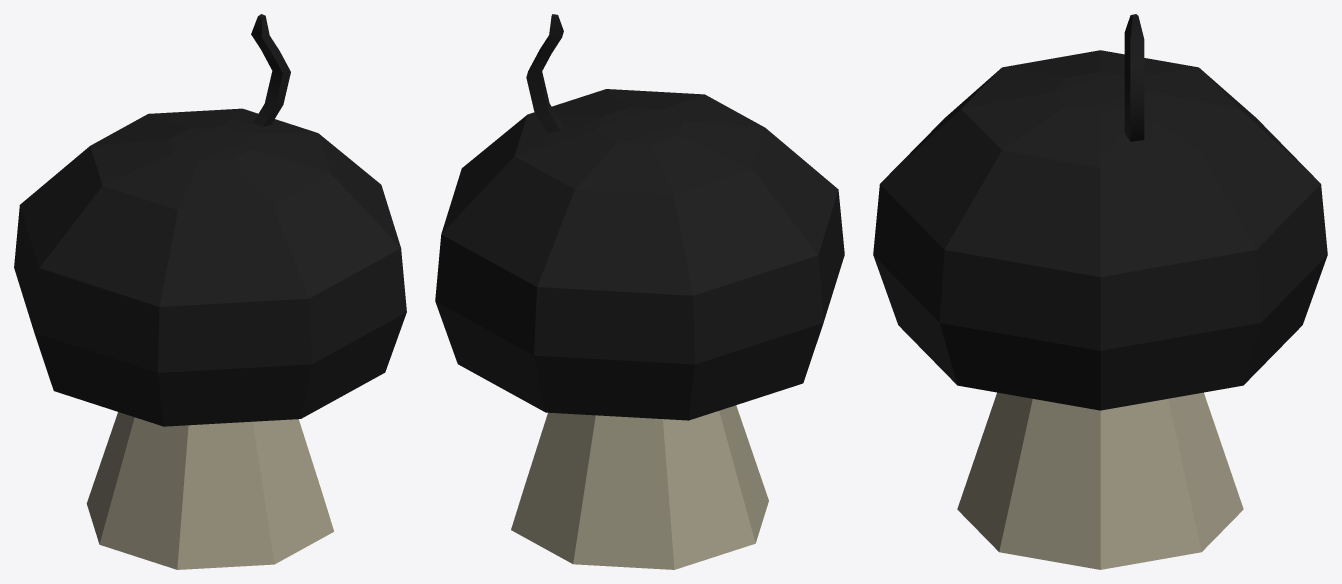
The model's file is mushroom_bomb.fbx.
3 views of the same model, side by side, from view 1: azimuth 30°, elevation 25°; view 2: azimuth 150°, elevation 25°; view 3: azimuth 270°, elevation 25° (orthographic). The views are drawn at different scales.
Visible parts, largest first — view 1: pCylinder1; view 2: pCylinder1; view 3: pCylinder1.
Boxes of the visible parts, box(x1,y1,x2,y2) form: pCylinder1: box(14, 14, 406, 569); pCylinder1: box(435, 14, 844, 569); pCylinder1: box(873, 14, 1327, 569).
Size of the model in its own units: 12.06 by 15.52 by 12.06.
